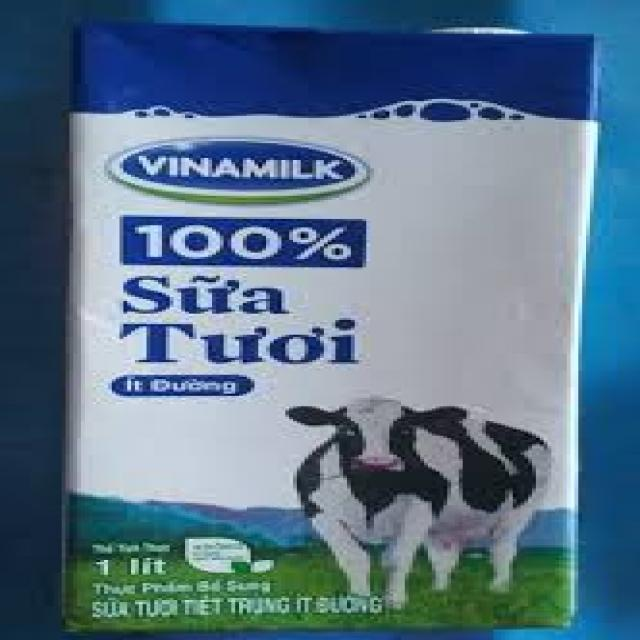non_white_jug: (44, 7, 630, 636)
